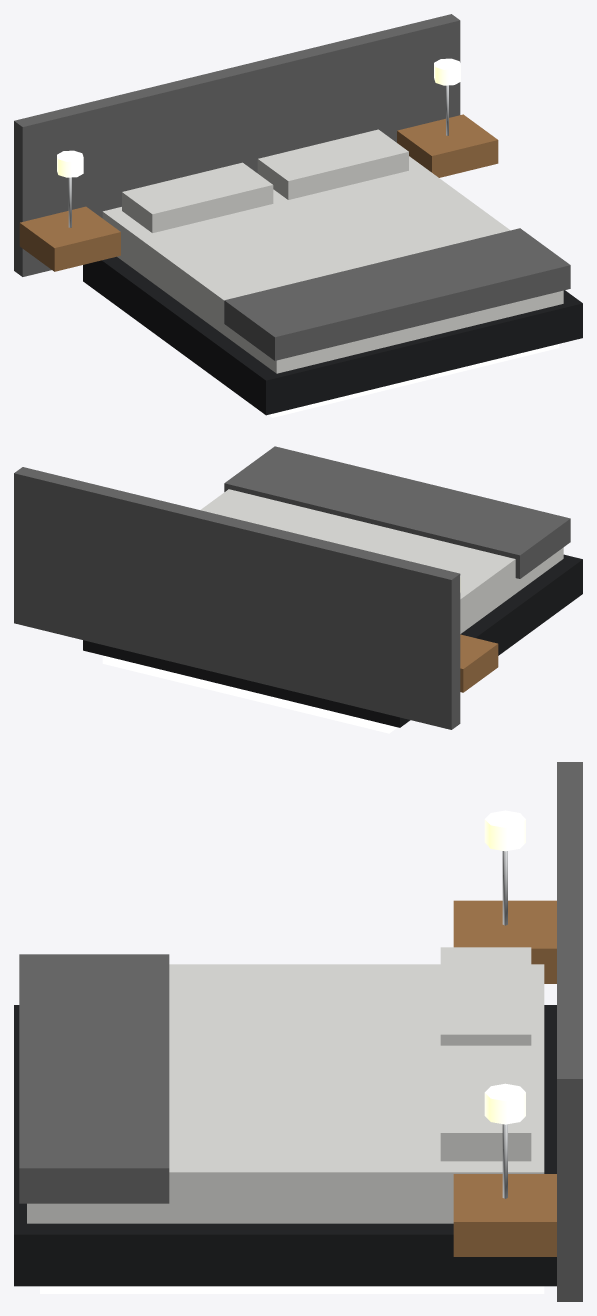
Rendered from platform_bed.glb.
3 views of the same model, one above another, from view 1: azimuth 30°, elevation 25°; view 2: azimuth 150°, elevation 25°; view 3: azimuth 270°, elevation 25° (orthographic). The views are drawn at different scales.
Visible parts, largest first — view 1: platform_bed; view 2: platform_bed; view 3: platform_bed.
Part boxes in pixels (x1=…): platform_bed: x1=14, y1=14, x2=582, y2=417; platform_bed: x1=14, y1=446, x2=582, y2=733; platform_bed: x1=14, y1=762, x2=582, y2=1301.
Size of the model in its own units: 2.94 by 1.15 by 2.2.
1 material, 1 textured.
